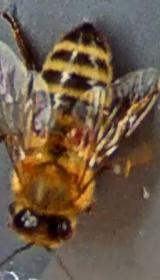varroa_mite: (61, 116, 94, 150)
